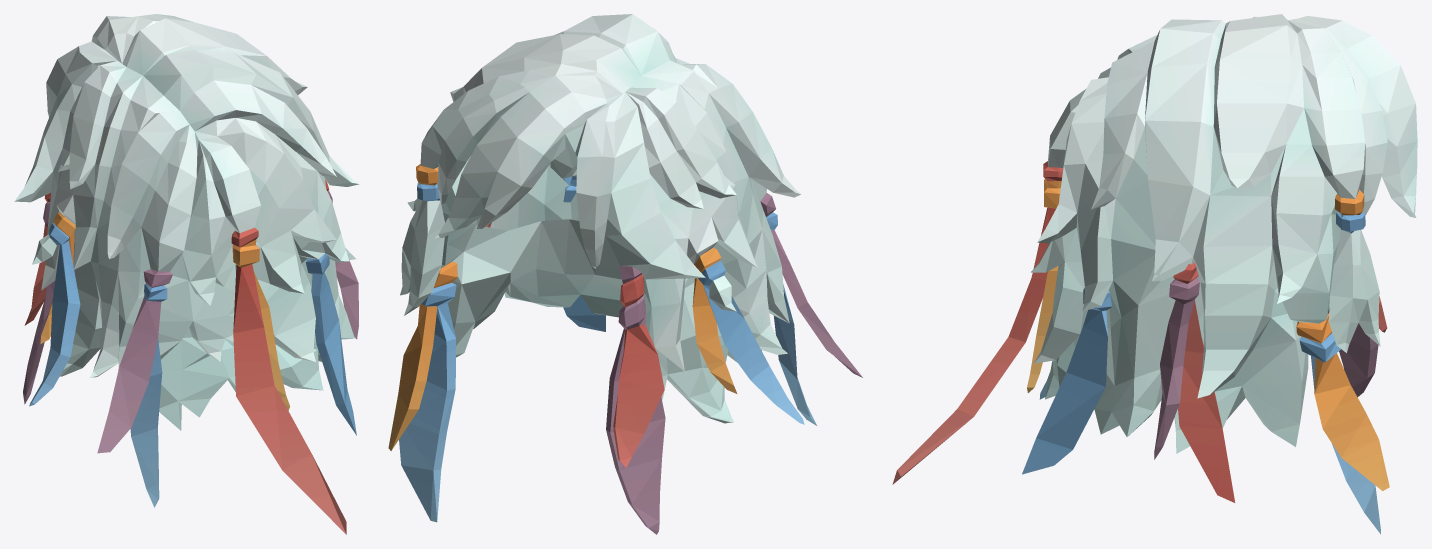
File: CharSkyKid_Hair_AP20Maypole.glb
3 views of the same model, side by side, from view 1: azimuth 30°, elevation 25°; view 2: azimuth 150°, elevation 25°; view 3: azimuth 270°, elevation 25° (orthographic). The views are drawn at different scales.
Parts seen in each view (by area): view 1: CharSkyKid_Hair_AP20Maypole; view 2: CharSkyKid_Hair_AP20Maypole; view 3: CharSkyKid_Hair_AP20Maypole.
Part boxes in pixels (left/top/right/bottom): CharSkyKid_Hair_AP20Maypole: left=14, top=14, right=359, bottom=534; CharSkyKid_Hair_AP20Maypole: left=388, top=14, right=862, bottom=534; CharSkyKid_Hair_AP20Maypole: left=892, top=14, right=1417, bottom=534.
Bounding box in the file's own units: 4.04 × 4.71 × 4.8.
1 material, 1 textured.
